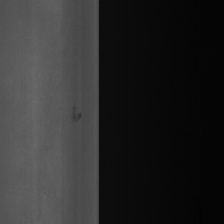oil_spot: (71, 102, 83, 127)
